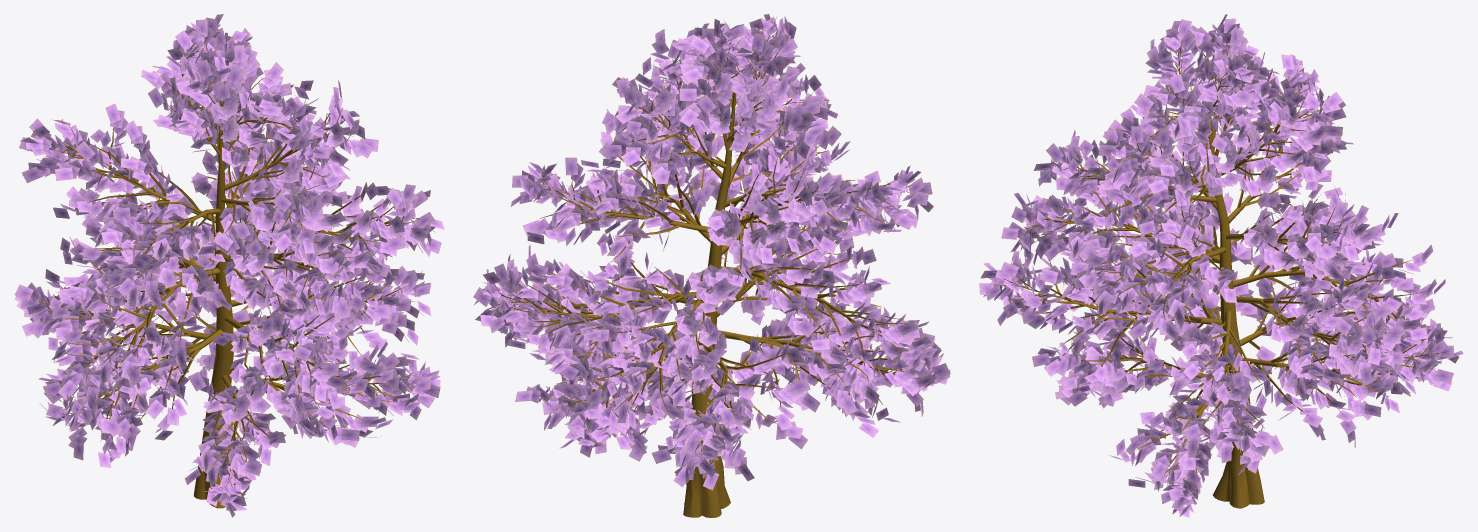
The model's file is purple-tree.glb.
The picture shows the model from 3 angles, left to right: view 1: azimuth 30°, elevation 25°; view 2: azimuth 150°, elevation 25°; view 3: azimuth 270°, elevation 25°; orthographic projection. The views are drawn at different scales.
Parts seen in each view (by area): view 1: Object_9, Object_4; view 2: Object_9, Object_4; view 3: Object_9, Object_4.
Part boxes in pixels (box(x1,y1,x2,y2)): Object_9: box(14, 14, 444, 517); Object_4: box(38, 35, 418, 508); Object_9: box(473, 14, 950, 490); Object_4: box(487, 24, 934, 517); Object_9: box(979, 14, 1463, 517); Object_4: box(995, 31, 1446, 508).
Size of the model in its own units: 211 by 232 by 218.
